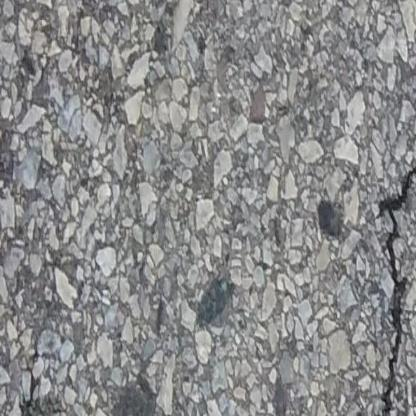Cracks: (370, 125, 416, 416)
